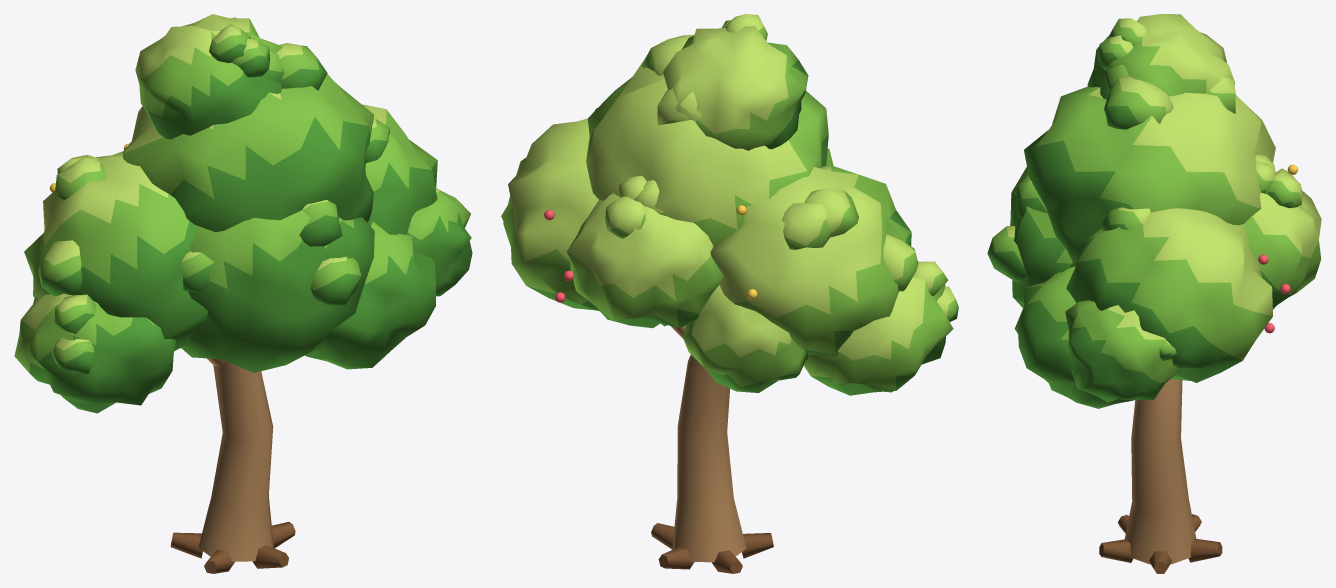
Rendered from tree_big.obj.
3 renders of one model, left to right at view 1: azimuth 30°, elevation 25°; view 2: azimuth 150°, elevation 25°; view 3: azimuth 270°, elevation 25°, orthographic. The views are drawn at different scales.
Visible parts, largest first — view 1: tree_big_leaf_dark, tree_big_leaf_mid, tree_big_leaf_light, tree_big_trunk, tree_big_trunk_dark; view 2: tree_big_leaf_light, tree_big_leaf_mid, tree_big_trunk, tree_big_leaf_dark, tree_big_trunk_dark; view 3: tree_big_leaf_mid, tree_big_leaf_dark, tree_big_leaf_light, tree_big_trunk, tree_big_trunk_dark.
Boxes of the visible parts, x1=… form: tree_big_leaf_dark: x1=29, y1=36, x2=472, y2=413; tree_big_leaf_mid: x1=14, y1=18, x2=470, y2=372; tree_big_leaf_light: x1=21, y1=14, x2=439, y2=352; tree_big_trunk: x1=198, y1=358, x2=273, y2=561; tree_big_trunk_dark: x1=170, y1=522, x2=295, y2=573; tree_big_leaf_light: x1=508, y1=14, x2=955, y2=360; tree_big_leaf_mid: x1=501, y1=18, x2=958, y2=390; tree_big_trunk: x1=671, y1=325, x2=746, y2=562; tree_big_leaf_dark: x1=503, y1=35, x2=958, y2=395; tree_big_trunk_dark: x1=651, y1=523, x2=773, y2=573; tree_big_leaf_mid: x1=992, y1=19, x2=1321, y2=383; tree_big_leaf_dark: x1=987, y1=29, x2=1300, y2=408; tree_big_leaf_light: x1=1006, y1=14, x2=1321, y2=344; tree_big_trunk: x1=1125, y1=379, x2=1196, y2=564; tree_big_trunk_dark: x1=1099, y1=514, x2=1222, y2=573.
Bounding box in the file's own units: 5.45 × 6.56 × 3.76.
